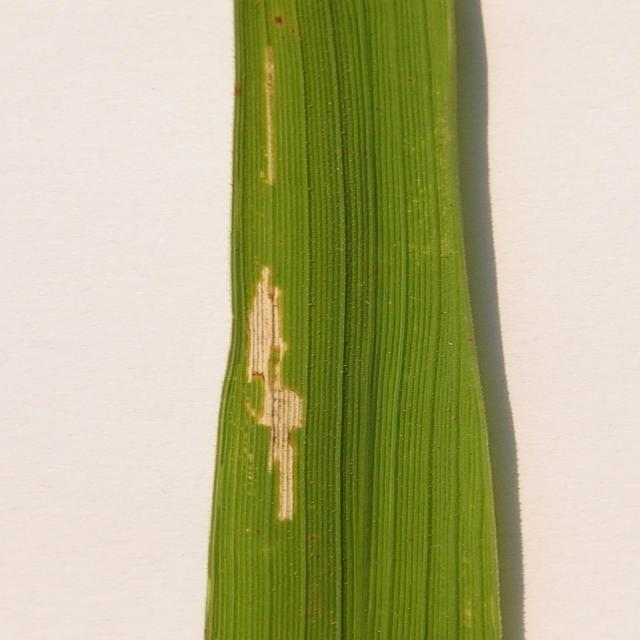leaf blight: (238, 262, 323, 533), (249, 9, 295, 185)
